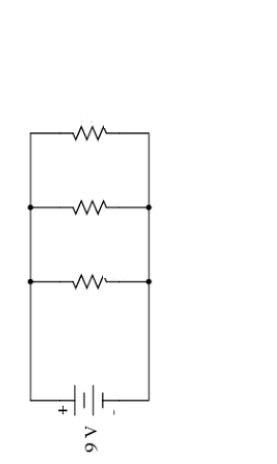resistor: (60, 107, 120, 155), (50, 185, 114, 224), (62, 262, 124, 302)
